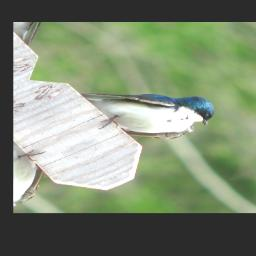Swallow: (65, 57, 230, 159)
